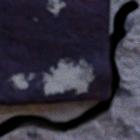brick: (0, 0, 111, 105)
crack: (0, 0, 139, 138)
